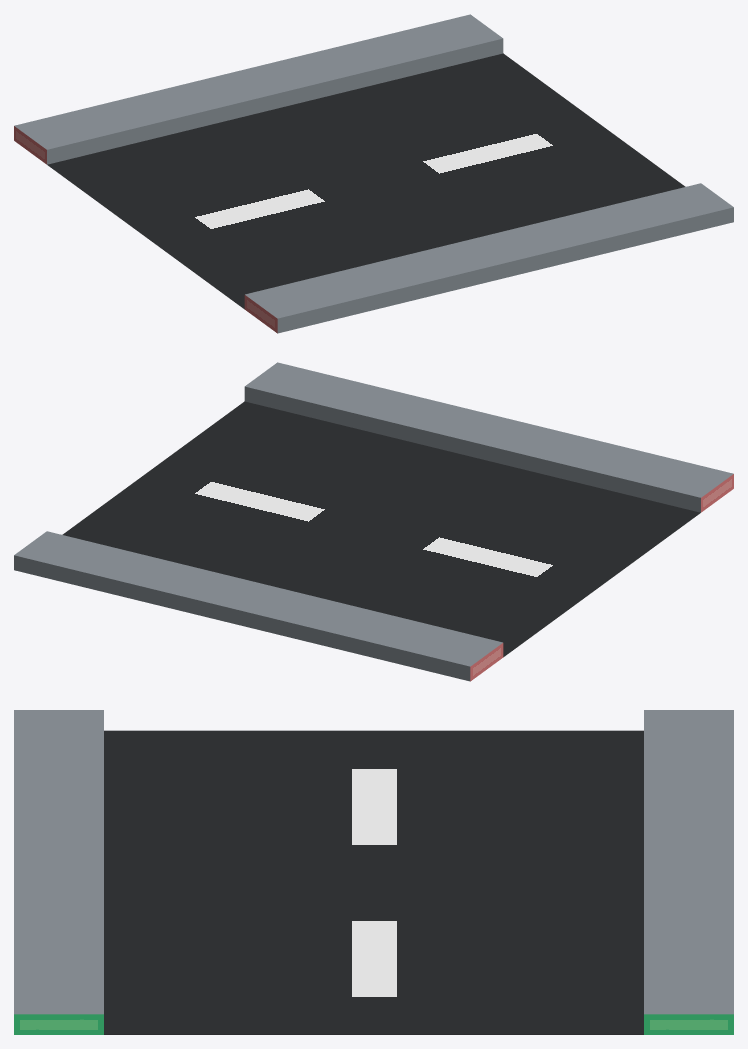
File: Road-x.gltf
The picture shows the model from 3 angles, top to bottom: view 1: azimuth 30°, elevation 25°; view 2: azimuth 150°, elevation 25°; view 3: azimuth 270°, elevation 25°; orthographic projection. The views are drawn at different scales.
Visible parts, largest first — view 1: Road, Sidewalk South, Sidewalk North; view 2: Road, Sidewalk North, Sidewalk South; view 3: Road, Sidewalk South, Sidewalk North.
Part boxes in pixels (<box>): Road: <box>47,53,685,309</box>; Sidewalk South: <box>244,183,733,333</box>; Sidewalk North: <box>14,14,503,164</box>; Road: <box>62,401,700,657</box>; Sidewalk North: <box>14,531,503,681</box>; Sidewalk South: <box>244,362,733,512</box>; Road: <box>104,730,643,1034</box>; Sidewalk South: <box>14,710,103,1034</box>; Sidewalk North: <box>644,710,733,1034</box>.
Size of the model in its own units: 2 by 0.0625 by 2.
Materials: 1 (1 with a texture image).
